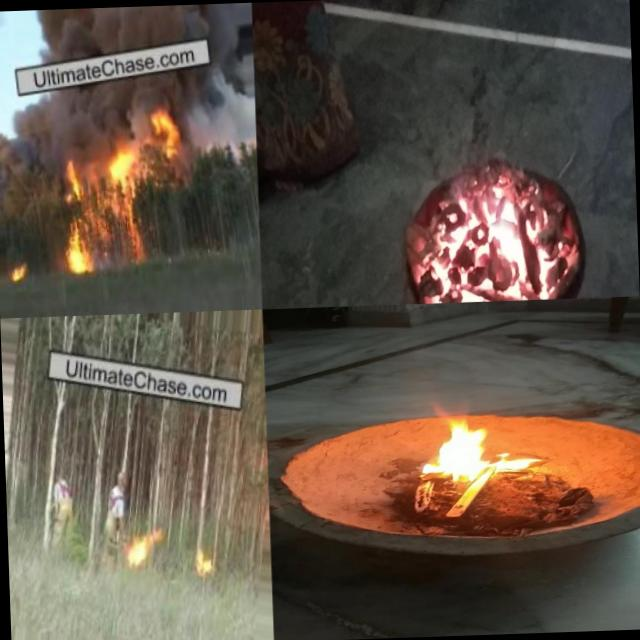fire: (416, 156, 575, 304), (404, 403, 542, 487), (97, 208, 143, 263), (127, 520, 164, 566), (60, 220, 88, 272), (155, 108, 179, 158), (111, 152, 135, 200), (60, 157, 82, 206), (190, 542, 217, 580), (7, 262, 31, 278)
smoke: (2, 94, 154, 154), (176, 78, 256, 150)
